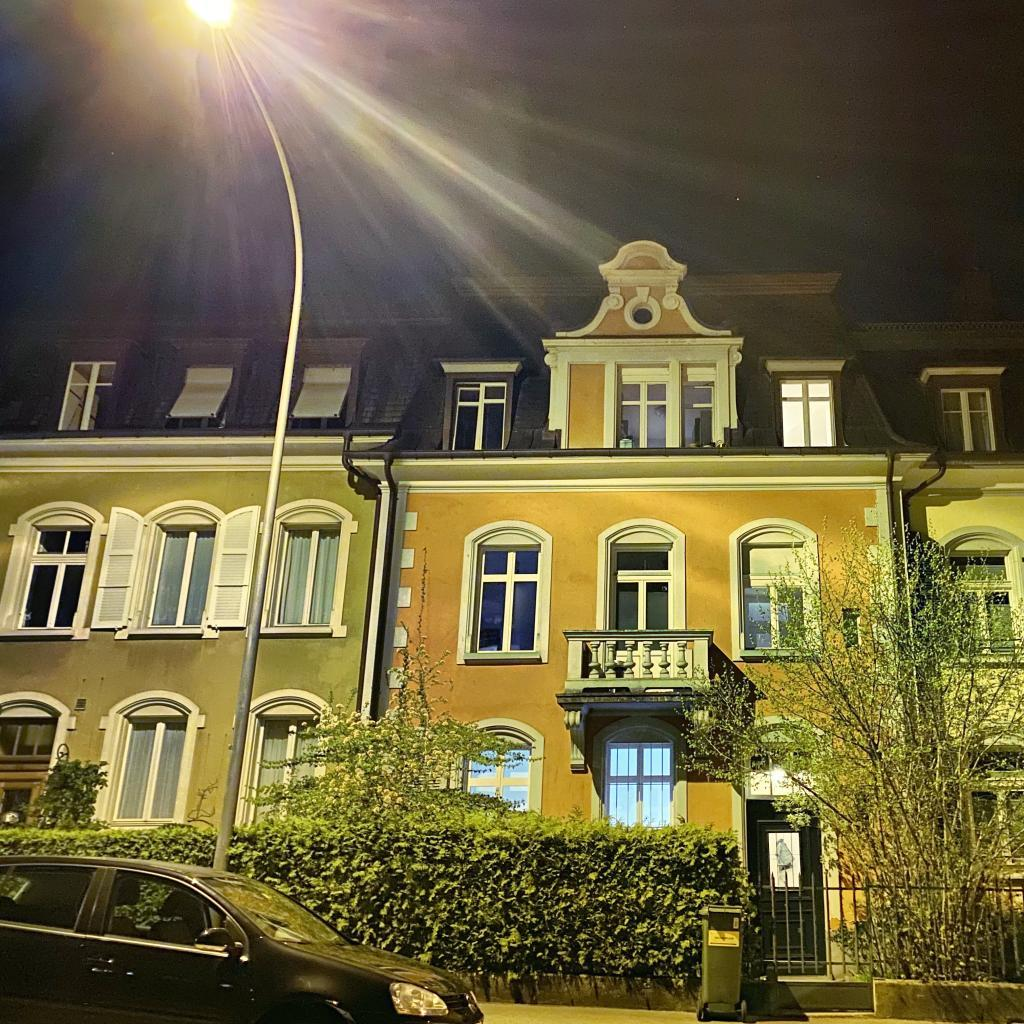car: (0, 854, 486, 1024)
fence: (745, 867, 1024, 1013)
non-building-infrastructure: (695, 904, 748, 1023)
street: (0, 240, 1024, 865), (459, 974, 1024, 1024)
traffic-infrastructure: (182, 0, 303, 872)
vegetation: (227, 541, 765, 980), (672, 510, 1024, 982), (0, 758, 217, 866)
window: (15, 528, 91, 629), (115, 719, 187, 820), (948, 557, 1019, 659), (741, 544, 809, 650), (966, 745, 1024, 867), (254, 718, 320, 825), (146, 528, 216, 627), (476, 547, 540, 654), (274, 526, 340, 626), (606, 730, 672, 827), (615, 550, 668, 650), (468, 740, 531, 811), (163, 366, 234, 428), (57, 360, 116, 431), (288, 368, 351, 429), (781, 379, 836, 448), (452, 381, 507, 450), (941, 389, 997, 453), (618, 384, 666, 448), (681, 384, 715, 449), (0, 718, 58, 756), (634, 308, 652, 324)
